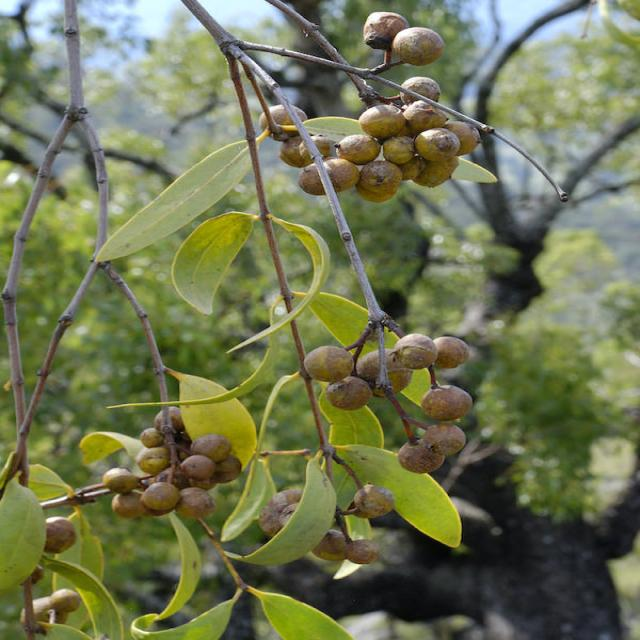Sandalwood: (73, 22, 640, 640), (106, 365, 640, 640), (235, 231, 585, 523), (155, 7, 513, 216)
